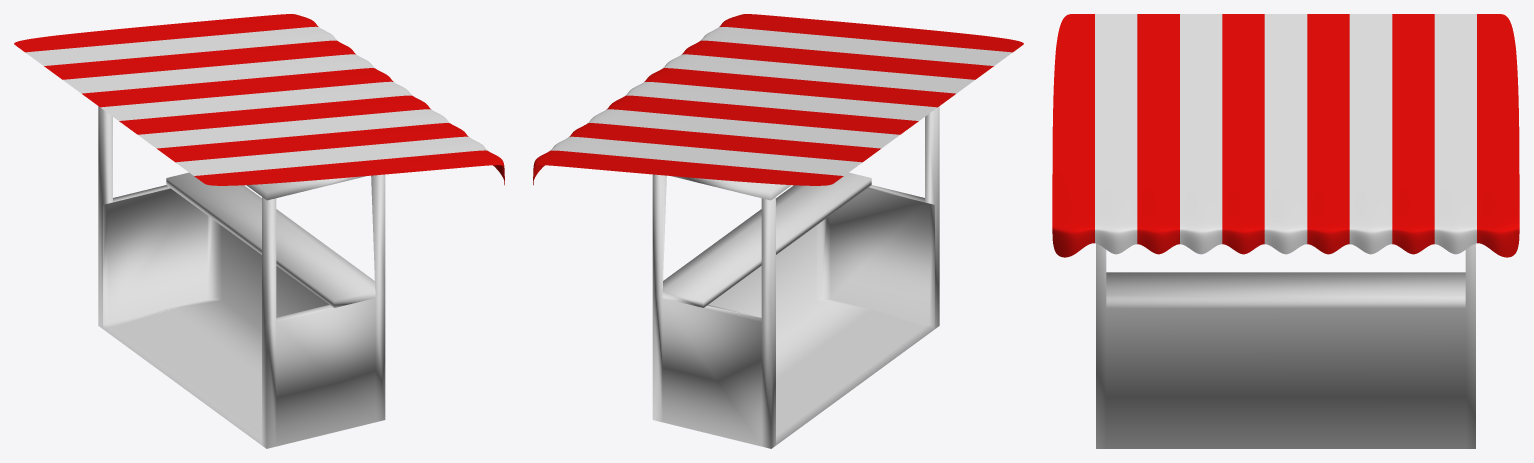
Rendered from tienda.fbx.
The picture shows the model from 3 angles, left to right: view 1: azimuth 30°, elevation 25°; view 2: azimuth 150°, elevation 25°; view 3: azimuth 270°, elevation 25°; orthographic projection. The views are drawn at different scales.
Visible parts, largest first — view 1: Tienda; view 2: Tienda; view 3: Tienda.
Boxes of the visible parts, x1=… form: Tienda: x1=14, y1=14, x2=504, y2=448; Tienda: x1=533, y1=14, x2=1023, y2=448; Tienda: x1=1052, y1=14, x2=1519, y2=448.
Bounding box in the file's own units: 504 × 468 × 602.
